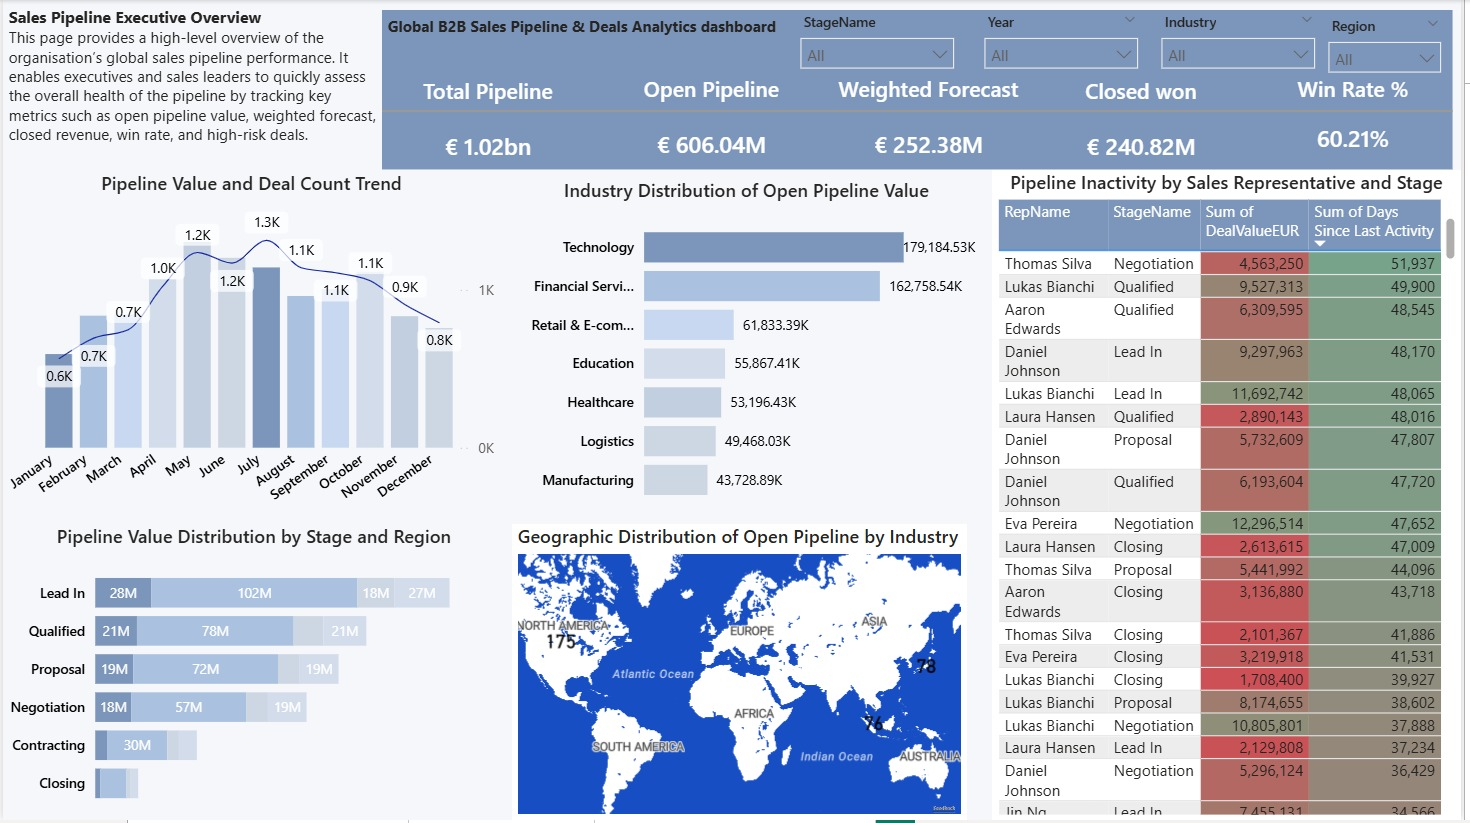

What the dashboard file says about the page in this screenshot:
{"tool":"powerbi","page":{"name":"Executive Pipeline Overview (Daily Command Centre)","canvas":[1280,720],"ordinal":0},"visuals":[{"type":"shape","box":[332.8,8.8,940.4,140.5],"z":0},{"type":"card","title":"Total Pipeline","fields":{"Values":["Pipeline + Revenue.Total Pipeline"]},"box":[332.8,66.7,186.1,101.9],"z":1000},{"type":"card","title":"Open Pipeline","fields":{"Values":["Pipeline + Revenue.Open Pipeline"]},"box":[524,65,195.8,101.9],"z":2000},{"type":"card","title":"Weighted Forecast","fields":{"Values":["Forecasting.Weighted Forecast"]},"box":[724.8,65,176.5,101.9],"z":3000},{"type":"card","title":"Closed won","fields":{"Values":["Pipeline + Revenue.Closed Won"]},"box":[906.4,66.7,186.1,101.9],"z":4000},{"type":"card","title":"Win Rate %","fields":{"Values":["Pipeline + Revenue.Win Rate %"]},"box":[1097.6,65,175.6,91.3],"z":5000},{"type":"shape","box":[332.8,89.6,940.4,15.8],"z":6000},{"type":"lineClusteredColumnComboChart","title":"Pipeline Value and Deal Count Trend","fields":{"Y":["Time intelligence (Created vs Activity timeline).Pipeline Created"],"Y2":["Pipeline + Revenue.Deal Count"],"Category":["DimDate.MonthName"]},"box":[0,150.1,436.4,310],"z":7000},{"type":"barChart","title":"Pipeline Value Distribution by Stage and Region","fields":{"Category":["FactDeals.StageName"],"Y":["Pipeline + Revenue.Open Pipeline €"],"Series":["DimCompany.Region"]},"box":[0,460.1,440.8,259.9],"z":8000},{"type":"clusteredBarChart","title":"Industry Distribution of Open Pipeline Value","fields":{"Category":["DimCompany.Industry"],"Y":["Pipeline + Revenue.Open Pipeline €"]},"box":[446.9,156.3,411.8,297.7],"z":9000},{"type":"azureMap","title":"Geographic Distribution of Open Pipeline by Industry","fields":{"Y":["DimCompany.Latitude"],"X":["DimCompany.Longitude"],"Size":["Pipeline + Revenue.Open Pipeline €"],"Series":["DimCompany.Industry"]},"box":[446.9,460.1,398.6,259.9],"z":10000},{"type":"tableEx","title":"Pipeline Inactivity by Sales Representative and Stage","fields":{"Values":["DimSalesRep.RepName","FactDeals.StageName","Sum(FactDeals.DealValueEUR)","Sum(FactDeals.Days Since Last Activity)"]},"box":[868.4,149.3,411.8,570.7],"z":11000},{"type":"slicer","fields":{"Values":["DimCompany.Region"]},"box":[1153.8,8.8,119.4,61.5],"z":12000},{"type":"slicer","fields":{"Values":["DimCompany.Industry"]},"box":[1007.1,5.3,155.4,61.5],"z":13000},{"type":"slicer","fields":{"Values":["DimDate.Year"]},"box":[851.7,5.3,155.4,61.5],"z":14000},{"type":"slicer","fields":{"Values":["FactDeals.StageName"]},"box":[690.1,5.3,155.4,61.5],"z":15000},{"type":"textbox","box":[0,0,332.8,150.1],"z":16000},{"type":"textbox","box":[332.8,8.8,357.4,50],"z":17000}]}

Visuals, with their boxes in screenshot pixels (x1, y1, x2, y2), scaled from the page's 1280x720 canvas onto the 1470x823 screenshot:
shape: [382,10,1462,171]
"Total Pipeline" card: [382,76,596,193]
"Open Pipeline" card: [602,74,827,191]
"Weighted Forecast" card: [832,74,1035,191]
"Closed won" card: [1041,76,1255,193]
"Win Rate %" card: [1261,74,1462,179]
shape: [382,102,1462,120]
"Pipeline Value and Deal Count Trend" lineClusteredColumnComboChart: [0,172,501,526]
"Pipeline Value Distribution by Stage and Region" barChart: [0,526,506,822]
"Industry Distribution of Open Pipeline Value" clusteredBarChart: [513,179,986,519]
"Geographic Distribution of Open Pipeline by Industry" azureMap: [513,526,971,822]
"Pipeline Inactivity by Sales Representative and Stage" tableEx: [997,171,1469,822]
slicer - DimCompany.Region: [1325,10,1462,80]
slicer - DimCompany.Industry: [1157,6,1335,76]
slicer - DimDate.Year: [978,6,1157,76]
slicer - FactDeals.StageName: [793,6,971,76]
textbox: [0,0,382,172]
textbox: [382,10,793,67]
